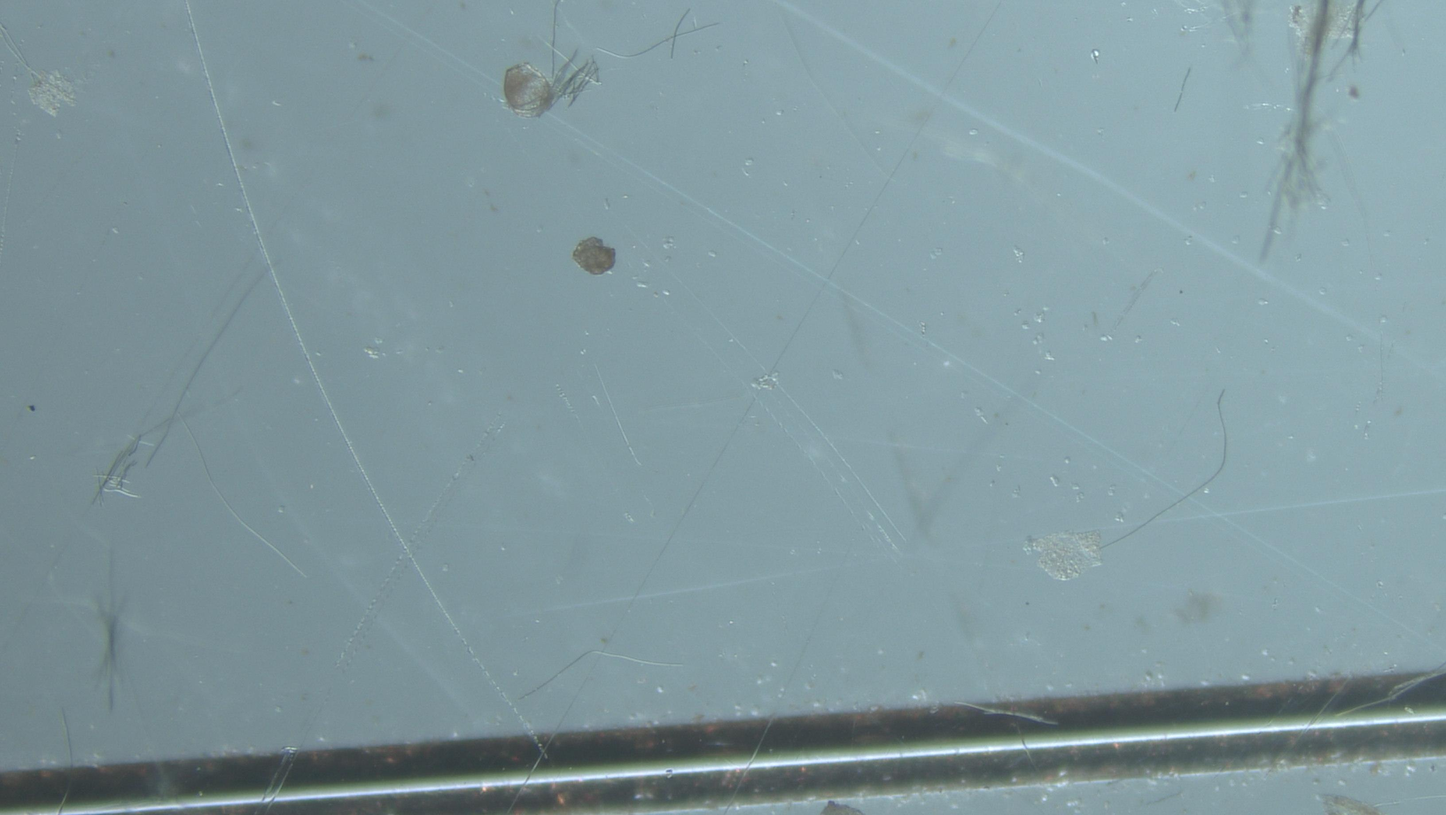live: (503, 63, 556, 118)
